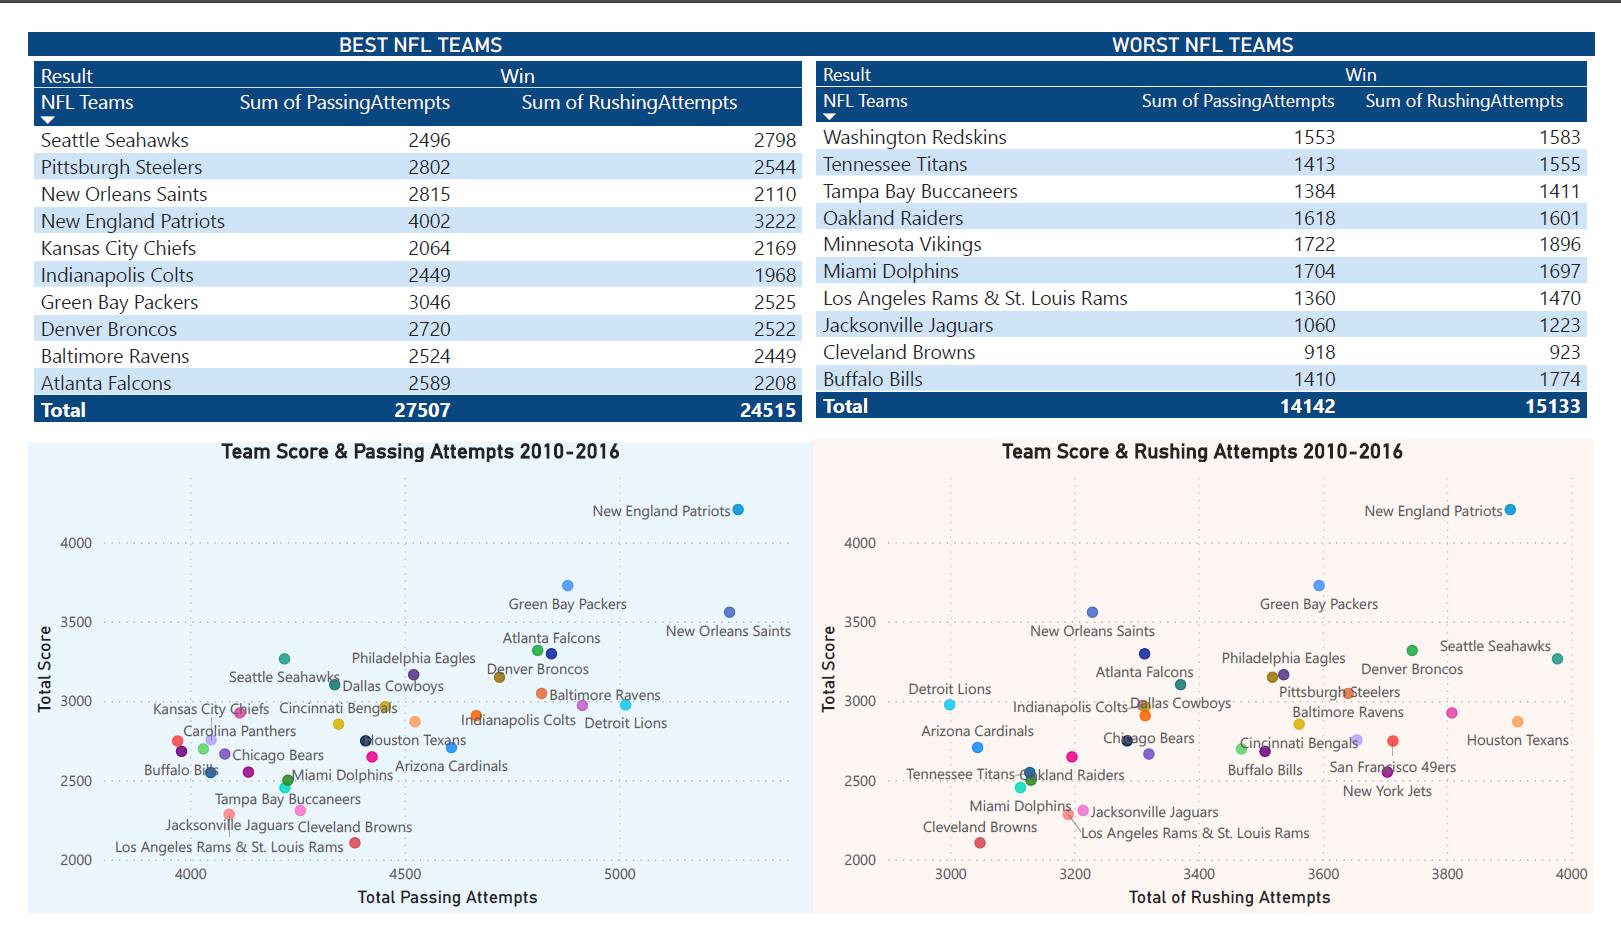

This screenshot's page, from the dashboard's own definition file:
{"tool":"powerbi","page":{"name":"Score & Passing Attempts","canvas":[1280,720],"ordinal":1},"visuals":[{"type":"scatterChart","title":"Team Score & Passing Attempts 2010-2016","fields":{"Y":["Sum(nfl_football_team_stats.TeamScore)"],"X":["Sum(nfl_football_team_stats.PassingAttempts)"],"Category":["nfl_football_team_stats.NFL Teams"],"Series":["nfl_football_team_stats.NFL Teams"]},"box":[0,332.3,641.1,387.5],"z":0},{"type":"scatterChart","title":"Team Score & Rushing Attempts 2010-2016","fields":{"Y":["Sum(nfl_football_team_stats.TeamScore)"],"Category":["nfl_football_team_stats.NFL Teams"],"Series":["nfl_football_team_stats.NFL Teams"],"X":["Sum(nfl_football_team_stats.RushingAttempts)"]},"box":[641.1,332.3,637.9,387.5],"z":1000},{"type":"pivotTable","title":"BEST NFL TEAMS","fields":{"Rows":["nfl_football_team_stats.NFL Teams"],"Values":["Sum(nfl_football_team_stats.PassingAttempts)","Sum(nfl_football_team_stats.RushingAttempts)"],"Columns":["nfl_football_team_stats.Result"]},"box":[0,0,641.1,333.9],"z":2000},{"type":"pivotTable","title":"WORST NFL TEAMS","fields":{"Rows":["nfl_football_team_stats.NFL Teams"],"Values":["Sum(nfl_football_team_stats.PassingAttempts)","Sum(nfl_football_team_stats.RushingAttempts)"],"Columns":["nfl_football_team_stats.Result"]},"box":[639.5,0,641.1,332.3],"z":3000}]}

Visuals, with their boxes on the page's 1280x720 design canvas (x1, y1, x2, y2). These are canvas units, not pixel positions in the 1621x943 screenshot, which may show the page scaled, cropped or inside an application window:
"Team Score & Passing Attempts 2010-2016" scatterChart: pyautogui.locateOnScreen(0, 332, 641, 720)
"Team Score & Rushing Attempts 2010-2016" scatterChart: pyautogui.locateOnScreen(641, 332, 1279, 720)
"BEST NFL TEAMS" pivotTable: pyautogui.locateOnScreen(0, 0, 641, 334)
"WORST NFL TEAMS" pivotTable: pyautogui.locateOnScreen(640, 0, 1281, 332)
